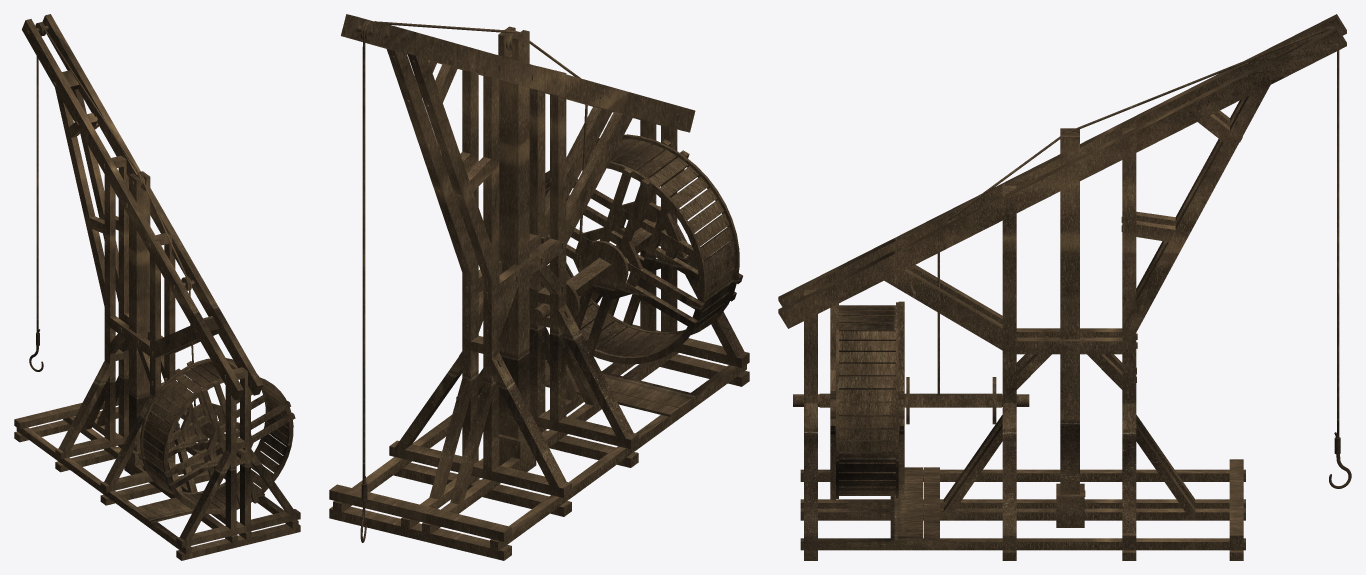
The model's file is grua glb.draco.glb.
The picture shows the model from 3 angles, left to right: view 1: azimuth 30°, elevation 25°; view 2: azimuth 150°, elevation 25°; view 3: azimuth 270°, elevation 25°; orthographic projection. The views are drawn at different scales.
Visible parts, largest first — view 1: brep_91, brep_92, brep_45, brep_87, brep_88, brep_61, brep_83, brep_98, shell_2, brep_89, brep_93, brep_162 (+32 smaller); view 2: brep_45, brep_91, brep_87, brep_93, brep_1, brep_61, brep_64, brep_88, brep_83, brep_55, brep_54, brep_41 (+40 smaller); view 3: brep_92, brep_91, brep_45, brep_85, brep_64, brep_86, brep_88, brep_83, brep_84, brep_42, brep_1, shell_2 (+21 smaller).
Part boxes in pixels (box(x1,y1,x2,y2)): brep_91: box(22, 19, 243, 400); brep_92: box(42, 14, 262, 395); brep_45: box(129, 171, 150, 451); brep_87: box(104, 159, 115, 440); brep_88: box(118, 155, 128, 437); brep_61: box(55, 88, 104, 306); brep_83: box(16, 427, 191, 554); brep_98: box(163, 377, 293, 514); shell_2: box(36, 22, 190, 333); brep_89: box(240, 367, 250, 526); brep_93: box(150, 235, 160, 425); brep_162: box(176, 509, 300, 547); brep_45: box(498, 26, 529, 438); brep_91: box(369, 21, 695, 132); brep_87: box(483, 75, 499, 470); brep_93: box(550, 71, 566, 421); brep_1: box(529, 66, 545, 416); brep_61: box(407, 54, 491, 279); brep_64: box(386, 49, 470, 274); brep_88: box(462, 70, 478, 462); brep_83: box(490, 364, 746, 551); brep_55: box(329, 484, 511, 541); brep_54: box(329, 506, 511, 560); brep_41: box(566, 112, 632, 244); brep_92: box(778, 26, 1346, 328); brep_91: box(778, 14, 1346, 306); brep_45: box(1060, 128, 1079, 494); brep_85: box(800, 538, 1245, 550); brep_64: box(1136, 85, 1270, 331); brep_86: box(800, 508, 1245, 520); brep_88: box(1122, 153, 1136, 403); brep_83: box(800, 469, 1245, 481); brep_84: box(800, 499, 1245, 508); brep_42: box(884, 269, 1002, 350); brep_1: box(1002, 192, 1016, 403); shell_2: box(937, 27, 1339, 438).
Bounding box in the file's own units: 3.39 × 9.51 × 9.87.
1 material, 1 textured.
